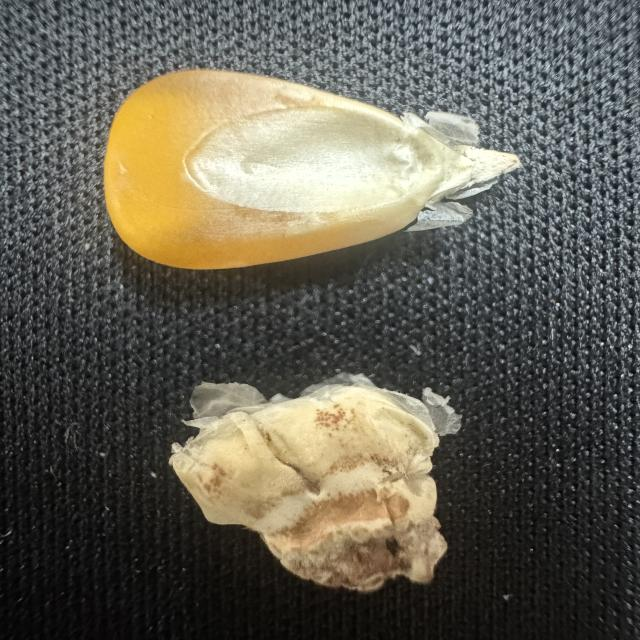Bad-Seed: (153, 361, 465, 598)
Good-Seed: (89, 59, 531, 272)
